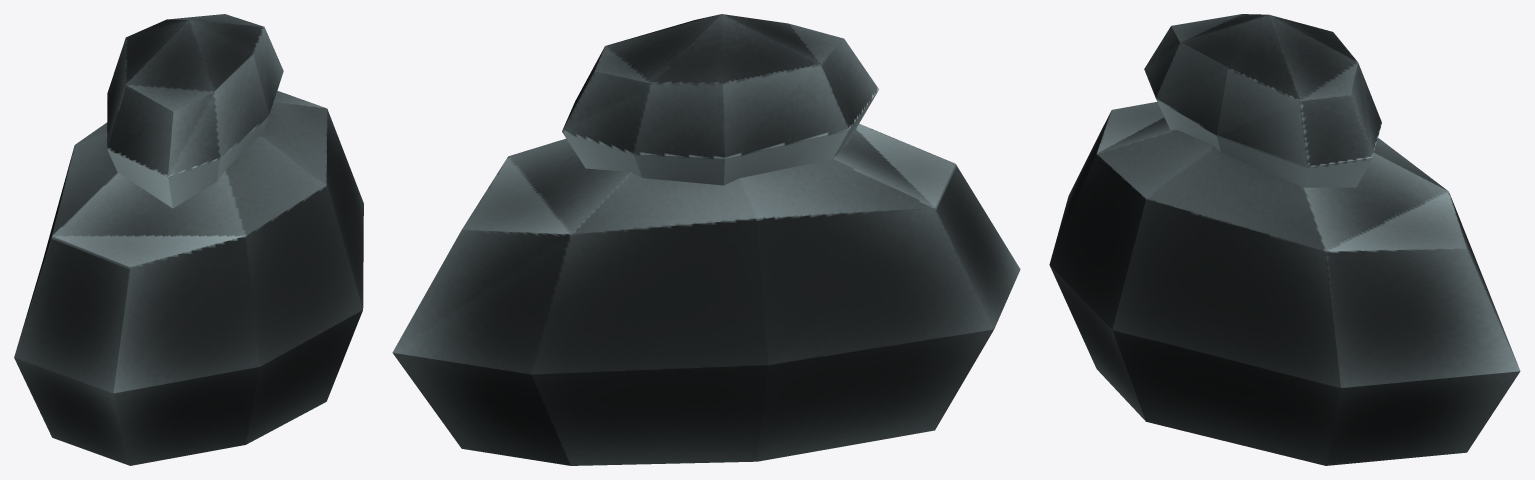
The model's file is pedra.fbx.
3 views of the same model, side by side, from view 1: azimuth 30°, elevation 25°; view 2: azimuth 150°, elevation 25°; view 3: azimuth 270°, elevation 25° (orthographic). The views are drawn at different scales.
Parts seen in each view (by area): view 1: Pedra_Comum.003; view 2: Pedra_Comum.003; view 3: Pedra_Comum.003.
Boxes of the visible parts, x1,y1,x2,y2 form: Pedra_Comum.003: [14, 14, 363, 465]; Pedra_Comum.003: [392, 14, 1020, 465]; Pedra_Comum.003: [1049, 14, 1520, 465].
Bounding box in the file's own units: 217 × 176 × 205.
